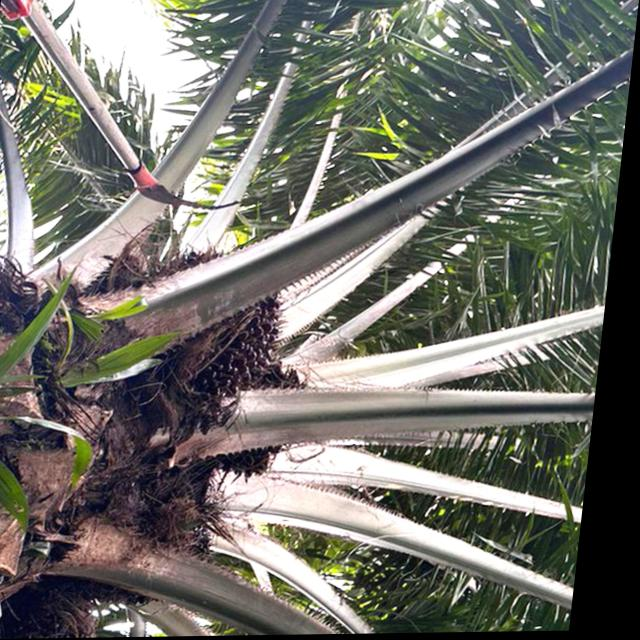unripe: (121, 251, 309, 433)
